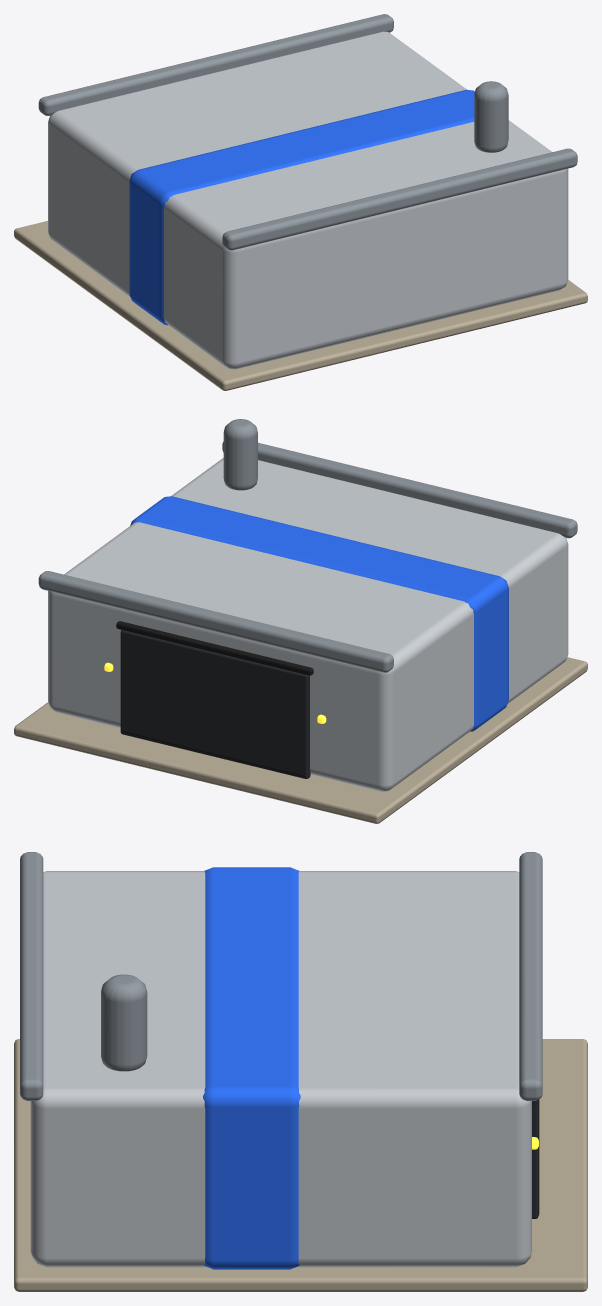
The model's file is factory.glb.
3 renders of one model, top to bottom at view 1: azimuth 30°, elevation 25°; view 2: azimuth 150°, elevation 25°; view 3: azimuth 270°, elevation 25°, orthographic. The views are drawn at different scales.
Visible parts, largest first — view 1: stage_2__M_Foil, stage_3__M_SpringSteel, stage_2__M_Team, stage_0__M_SugarPad; view 2: stage_2__M_Foil, door__M_Dark, stage_0__M_SugarPad, stage_2__M_Team, stage_3__M_SpringSteel, stage_2__M_Licorice; view 3: stage_2__M_Foil, stage_2__M_Team, stage_0__M_SugarPad, stage_3__M_SpringSteel, door__M_Dark.
Boxes of the visible parts, x1,y1,x2,y2 form: stage_2__M_Foil: (48,31,568,369); stage_3__M_SpringSteel: (38,14,577,250); stage_2__M_Team: (129,89,474,325); stage_0__M_SugarPad: (14,221,587,390); stage_2__M_Foil: (48,458,568,791); door__M_Dark: (120,630,310,778); stage_0__M_SugarPad: (14,657,587,823); stage_2__M_Team: (130,496,508,731); stage_3__M_SpringSteel: (38,419,577,672); stage_2__M_Licorice: (116,621,313,675); stage_2__M_Foil: (30,871,531,1267); stage_2__M_Team: (203,867,300,1269); stage_0__M_SugarPad: (14,1039,587,1291); stage_3__M_SpringSteel: (20,852,542,1100); door__M_Dark: (532,1099,538,1218).
Bounding box in the file's own units: 2.92 × 1.55 × 2.92.
